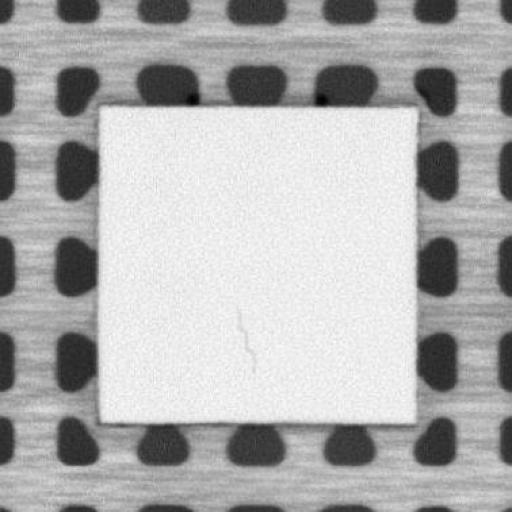DIE_CRACK: (233, 306, 259, 376)
